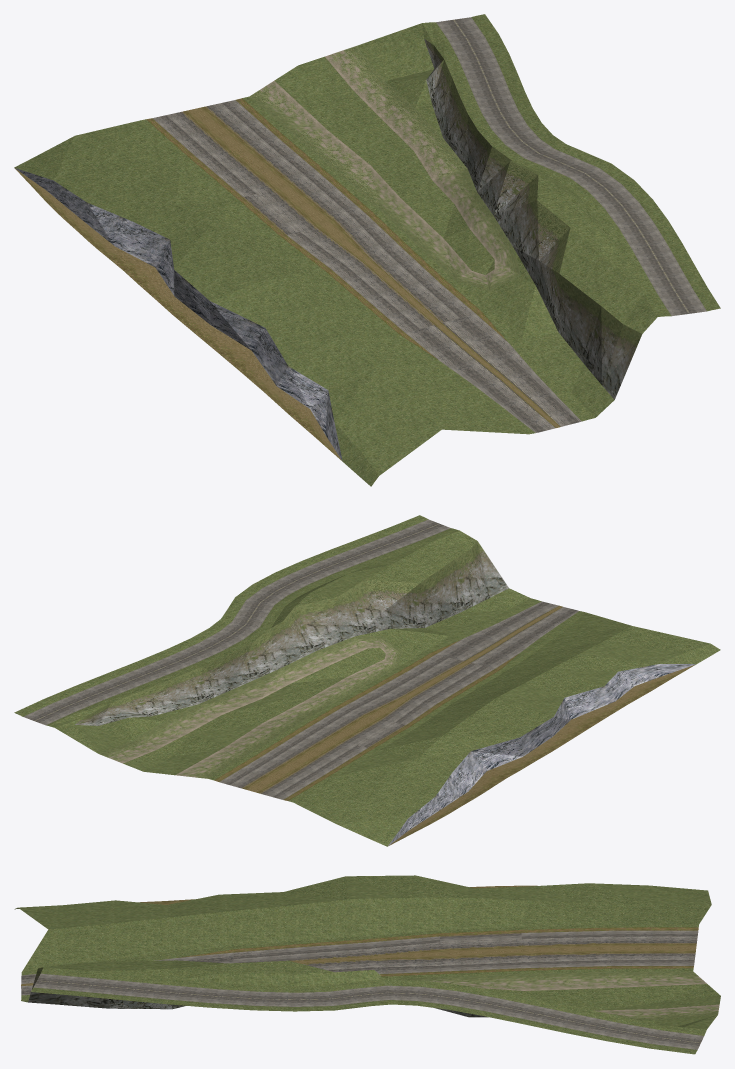
Rendered from ne_bit_17.obj.
3 views of the same model, one above another, from view 1: azimuth 30°, elevation 25°; view 2: azimuth 150°, elevation 25°; view 3: azimuth 270°, elevation 25° (orthographic). The views are drawn at different scales.
Visible parts, largest first — view 1: ne_bit_17; view 2: ne_bit_17; view 3: ne_bit_17.
Part boxes in pixels (<box>): ne_bit_17: <box>14,14,720,486</box>; ne_bit_17: <box>14,515,720,846</box>; ne_bit_17: <box>14,875,720,1054</box>.
Size of the model in its own units: 182 by 35.05 by 251.
12 materials, 12 textured.
